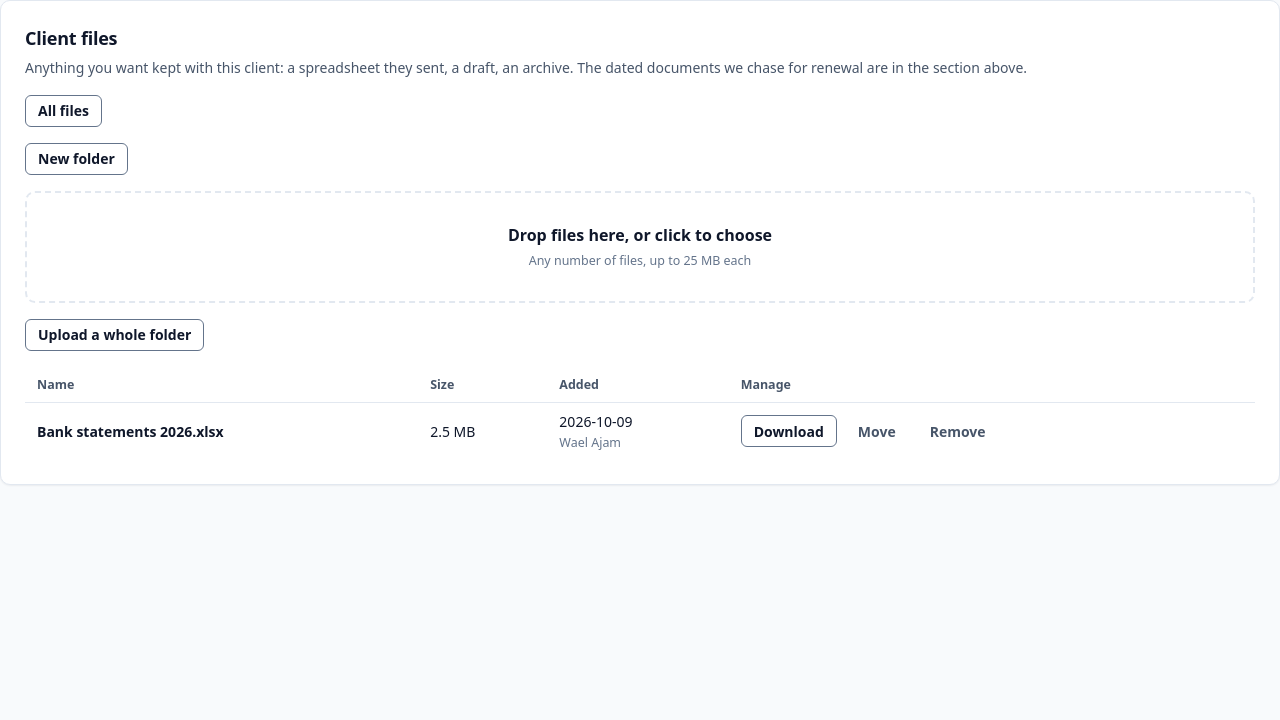
Scenario: folders inside the client’s folder › shows the server’s refusal, such as a name already used
Click the button "New folder".
click(76, 159)  # box [25,143,128,175]
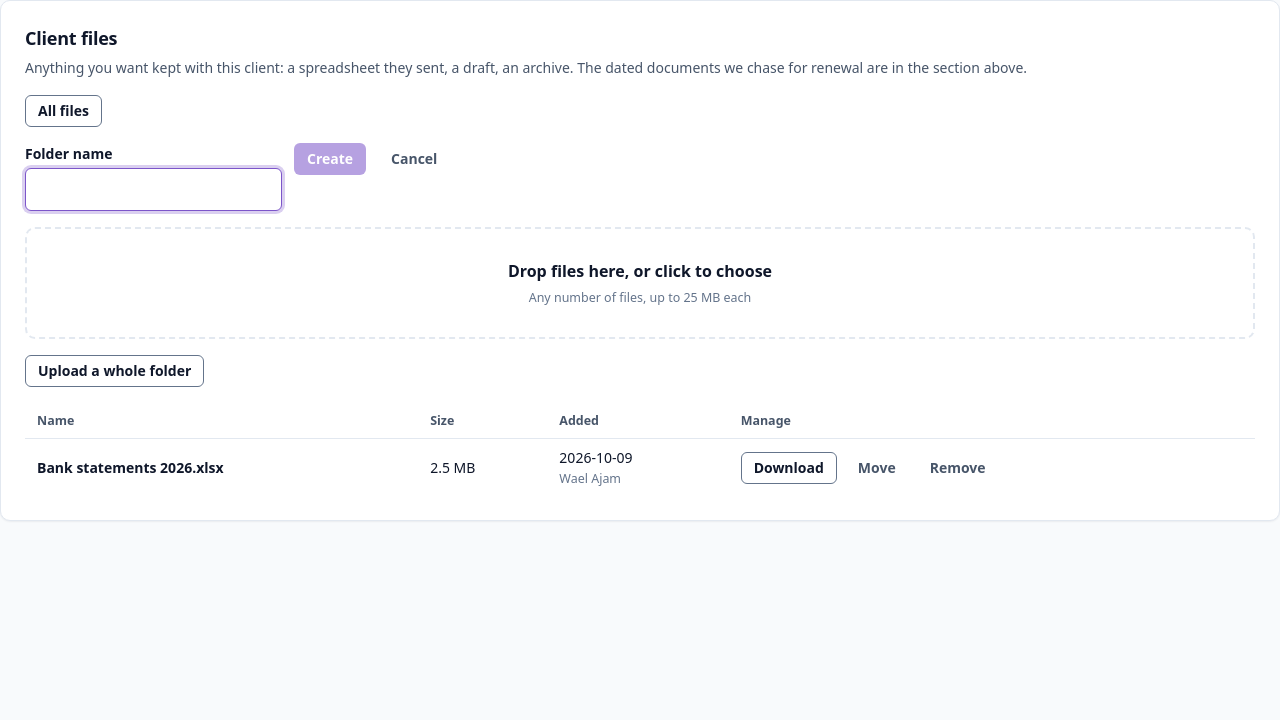
Type "Audit" into the field labelled "Folder name".
click(154, 190); type("Audit")  # box [25,168,282,211]
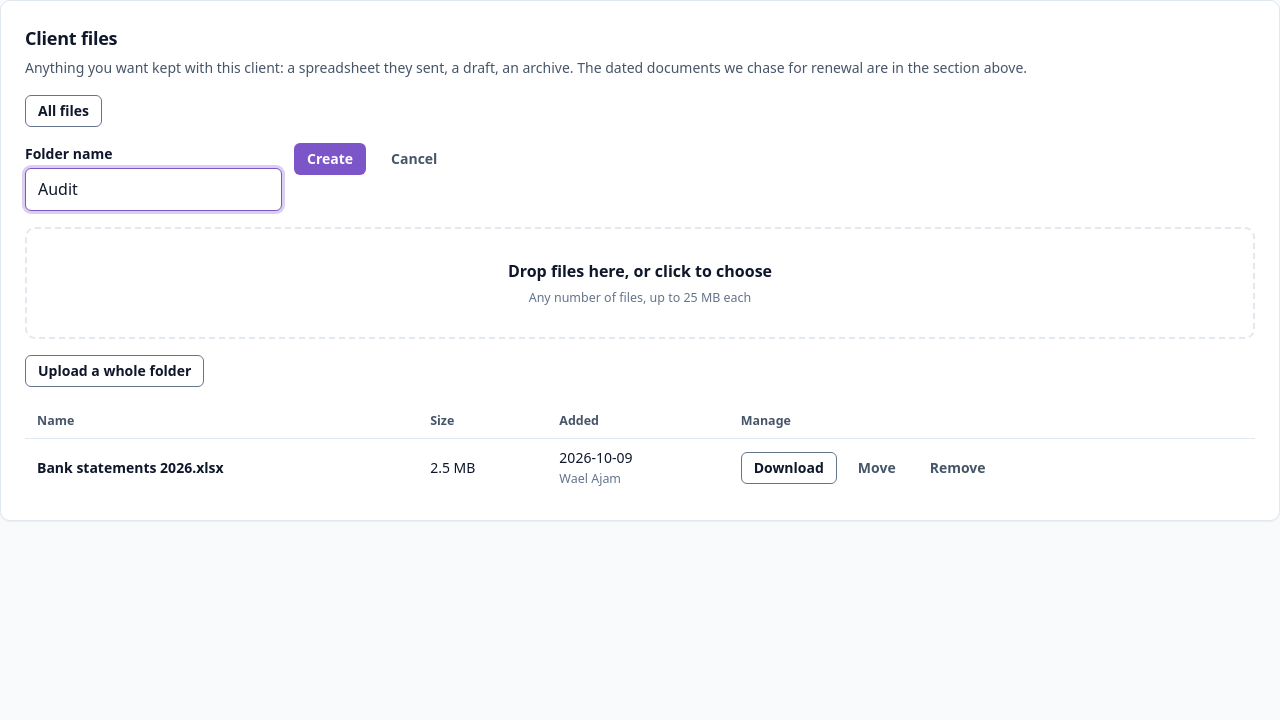
Click the button "Create".
click(330, 159)  # box [294,143,366,175]
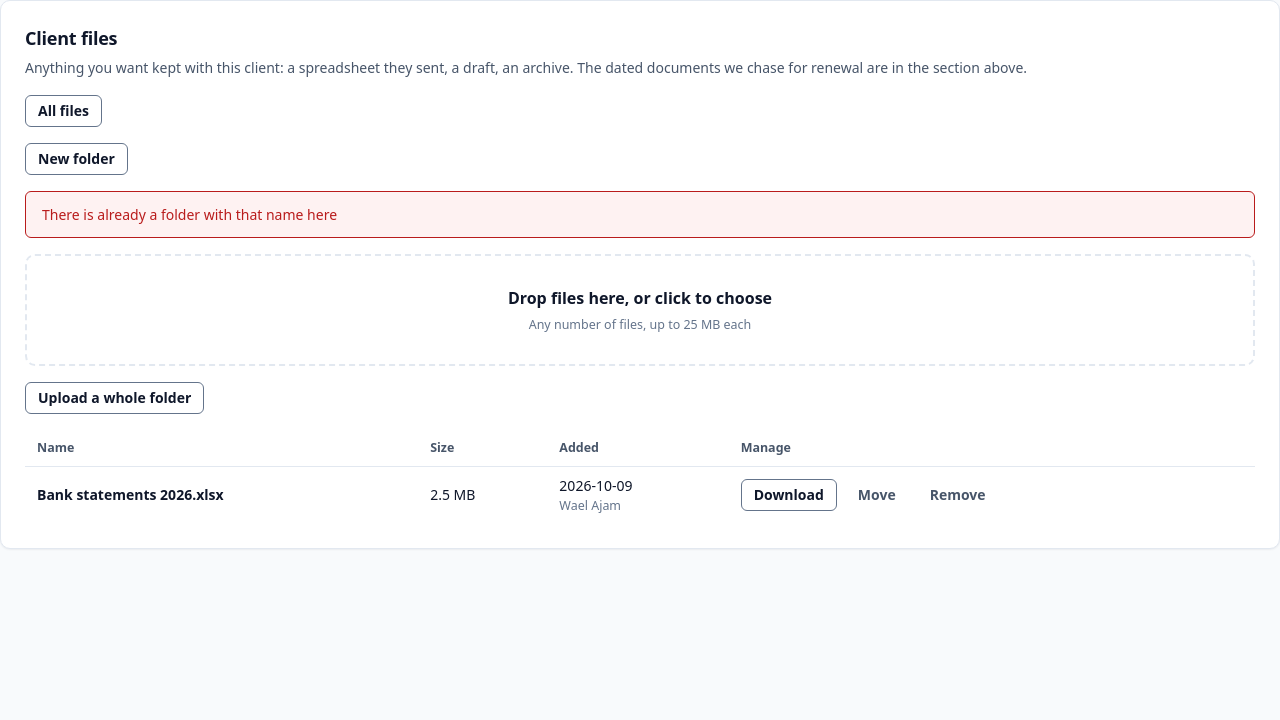
Check: the text "There is already a folder with that name here" is shown, box [25,191,1255,238]
